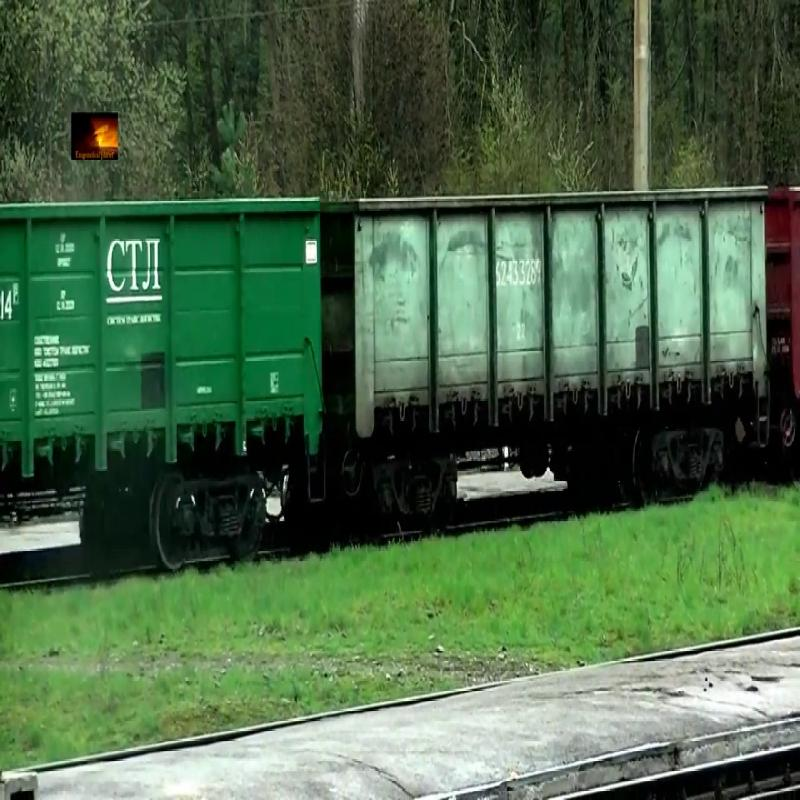train: (323, 189, 771, 454), (1, 196, 324, 498), (765, 183, 800, 413)
